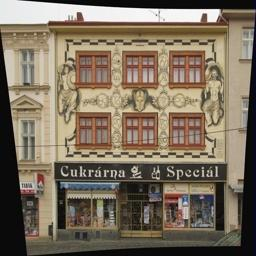building: (46, 0, 228, 239)
